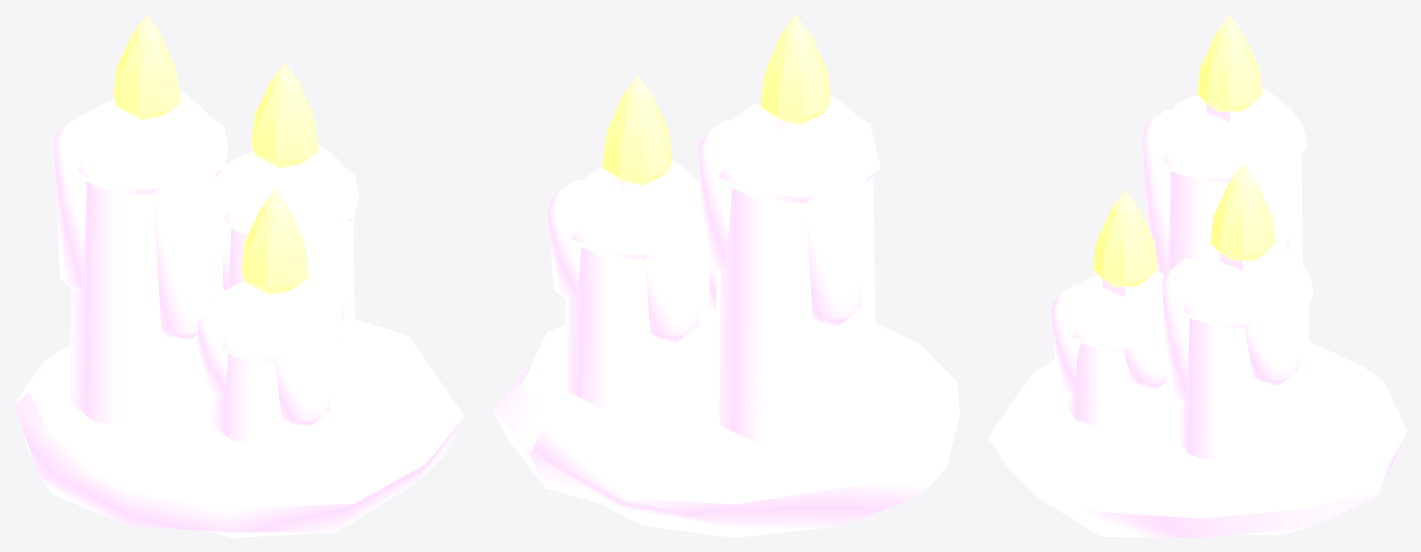
The model's file is candle_cluster.gltf.
3 views of the same model, side by side, from view 1: azimuth 30°, elevation 25°; view 2: azimuth 150°, elevation 25°; view 3: azimuth 270°, elevation 25° (orthographic). The views are drawn at different scales.
Parts seen in each view (by area): view 1: HAUNT_static, FLAME_candle_1, FLAME_candle_2, FLAME_candle_3; view 2: HAUNT_static, FLAME_candle_2, FLAME_candle_1; view 3: HAUNT_static, FLAME_candle_1, FLAME_candle_2, FLAME_candle_3.
Part boxes in pixels (box(x1,y1,x2,y2)): HAUNT_static: box(14, 93, 464, 537); FLAME_candle_1: box(113, 14, 180, 120); FLAME_candle_2: box(251, 62, 318, 168); FLAME_candle_3: box(241, 189, 308, 294); HAUNT_static: box(493, 96, 959, 537); FLAME_candle_2: box(602, 75, 672, 185); FLAME_candle_1: box(760, 14, 830, 124); HAUNT_static: box(988, 88, 1406, 537); FLAME_candle_1: box(1197, 14, 1262, 111); FLAME_candle_2: box(1210, 163, 1275, 260); FLAME_candle_3: box(1093, 189, 1157, 286).
Size of the model in its own units: 0.3249 by 0.3645 by 0.3209.
